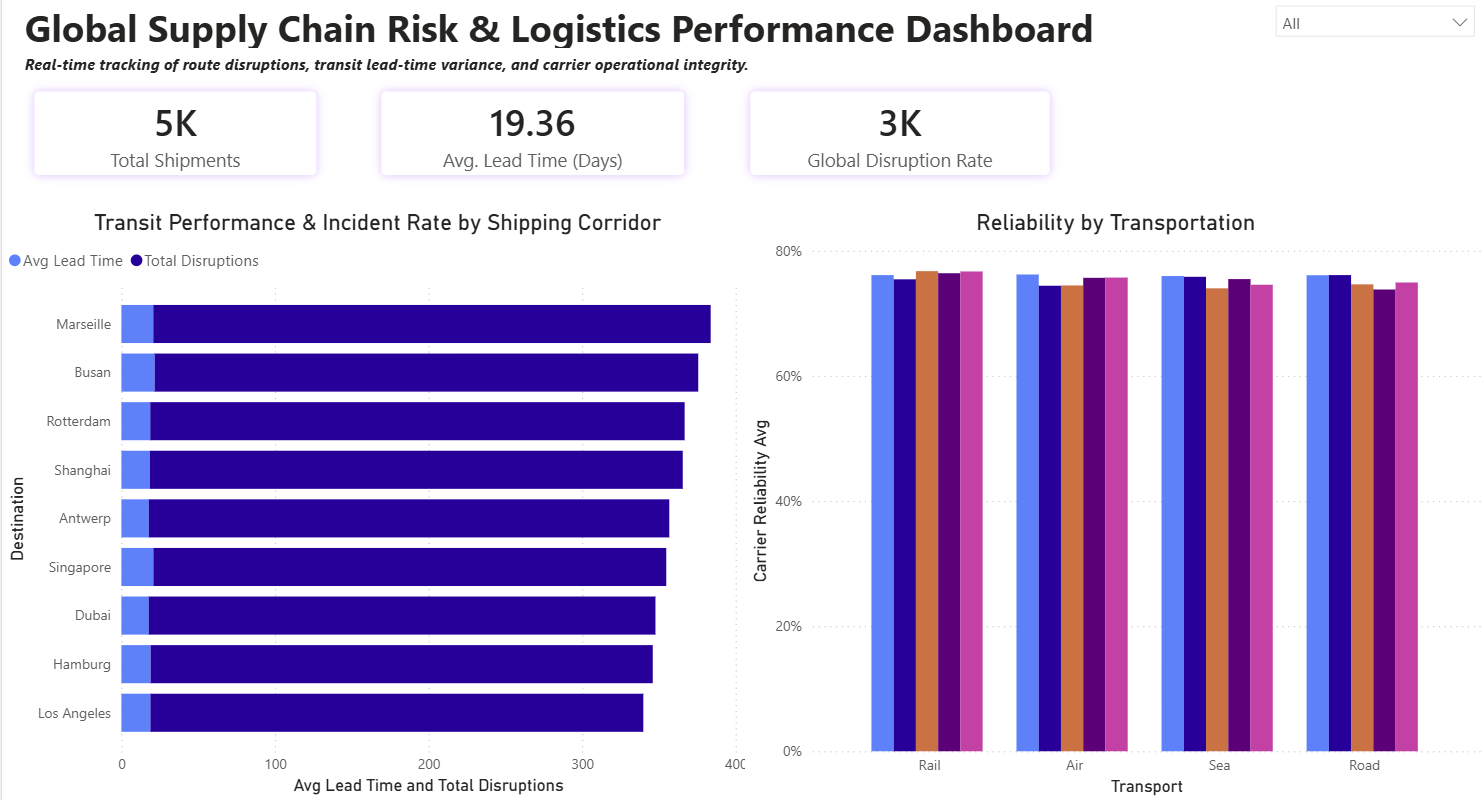

The page's visual inventory and layout, read from the dashboard file:
{"tool":"powerbi","page":{"name":"Logistics","canvas":[1280,720],"ordinal":0},"visuals":[{"type":"cardVisual","fields":{"Data":["Count(public supply_chain_risk.shipment_id)"]},"box":[0,80.4,299.7,128.8],"z":0},{"type":"cardVisual","fields":{"Data":["Avg(public supply_chain_risk.lead_time_days)"]},"box":[299.7,80.4,317.9,128.8],"z":1000},{"type":"cardVisual","fields":{"Data":["Sum(public supply_chain_risk.disruption_occurred)"]},"box":[617.6,80.4,314.3,128.8],"z":2000},{"type":"barChart","title":"Transit Performance & Incident Rate by Shipping Corridor","fields":{"Category":["public supply_chain_risk.destination_port"],"Y":["Avg(public supply_chain_risk.lead_time_days)","Sum(public supply_chain_risk.disruption_occurred)"]},"box":[0,209.2,647.8,510.7],"z":3000},{"type":"slicer","fields":{"Values":["public supply_chain_risk.weather_condition"]},"box":[1088.1,6.4,191.9,88.6],"z":4000},{"type":"clusteredColumnChart","title":"Reliability by Transportation","fields":{"Category":["public supply_chain_risk.transport_mode"],"Y":["Avg(public supply_chain_risk.carrier_reliability_score)"],"Series":["public supply_chain_risk.weather_condition"]},"box":[640.5,209.2,639.5,510.7],"z":5000},{"type":"textbox","box":[14.7,25.9,945.3,52.6],"z":6000},{"type":"textbox","box":[14.7,70.7,651.2,27.6],"z":7000}]}

Visuals, with their boxes on the page's 1280x720 design canvas (x1, y1, x2, y2). These are canvas units, not pixel positions in the 1484x800 screenshot, which may show the page scaled, cropped or inside an application window:
cardVisual - Count(public supply_chain_risk.shipment_id): (0,80,300,209)
cardVisual - Avg(public supply_chain_risk.lead_time_days): (300,80,618,209)
cardVisual - Sum(public supply_chain_risk.disruption_occurred): (618,80,932,209)
"Transit Performance & Incident Rate by Shipping Corridor" barChart: (0,209,648,720)
slicer - public supply_chain_risk.weather_condition: (1088,6,1280,95)
"Reliability by Transportation" clusteredColumnChart: (640,209,1280,720)
textbox: (15,26,960,78)
textbox: (15,71,666,98)
